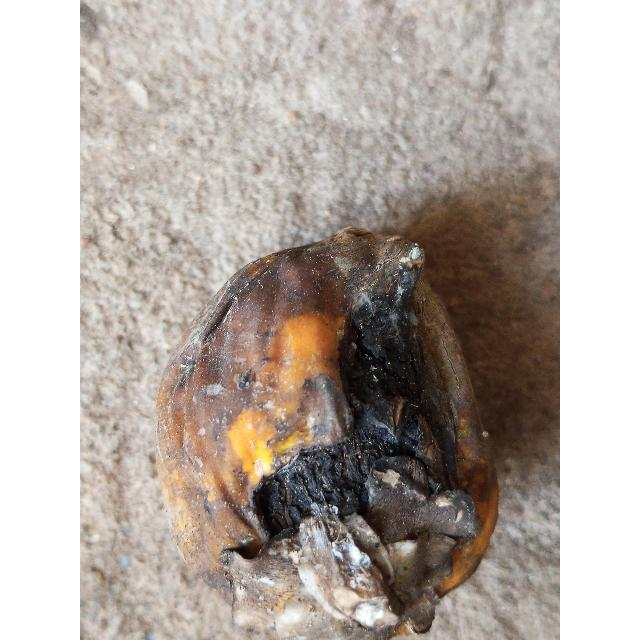damaged: (157, 228, 499, 640)
